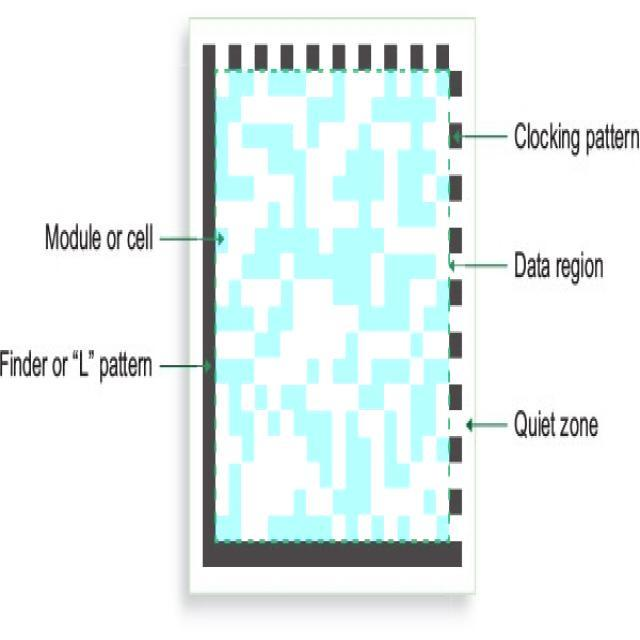Data-Matrix: (197, 36, 465, 574)
